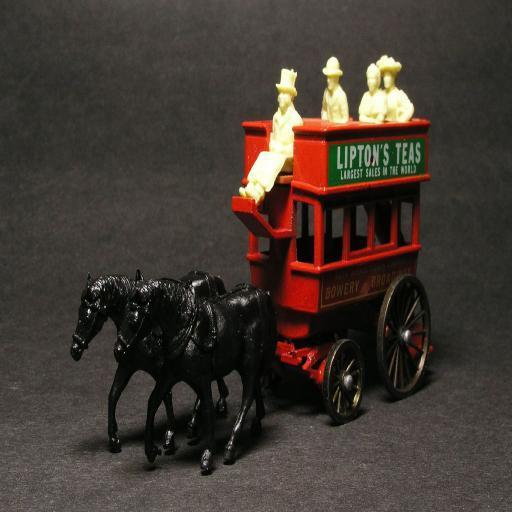horse: (114, 271, 280, 472), (69, 270, 229, 452)
